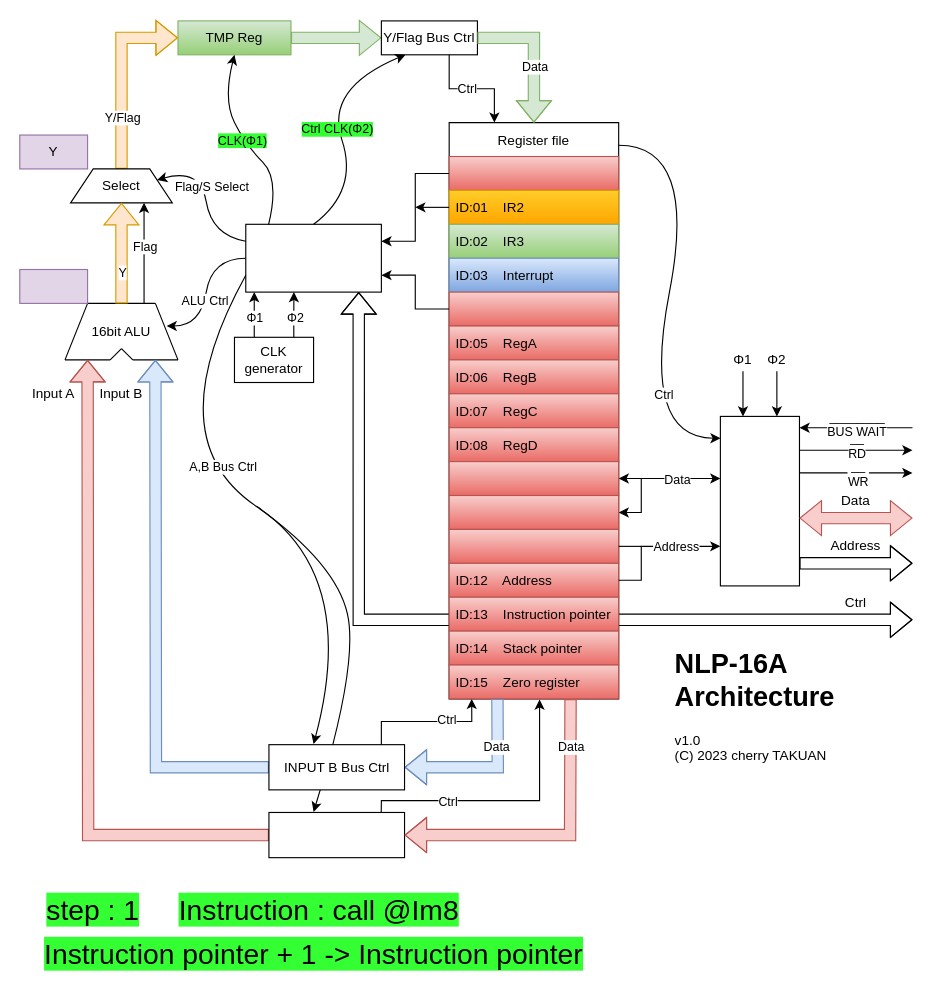
This 941x989 diagram has some shape labels left out. The shapes that lost their labels are listed below. From the top down, each one's box as (x1, y1, x2, y2) in pixels, then its label:
(448, 155, 619, 190): ID:00 IR1
(245, 223, 381, 292): Instruction decoder timing control
(19, 268, 88, 303): MOV
(448, 291, 619, 326): ID:04 Flag
(448, 460, 619, 496): ID:09 RegE(Serial I/O)
(448, 494, 619, 529): ID:10 MEM(Device)
(719, 415, 799, 586): I/O Ctrl
(448, 528, 619, 563): ID:11 Bank
(268, 811, 405, 858): INPUT A Bus Ctrl
